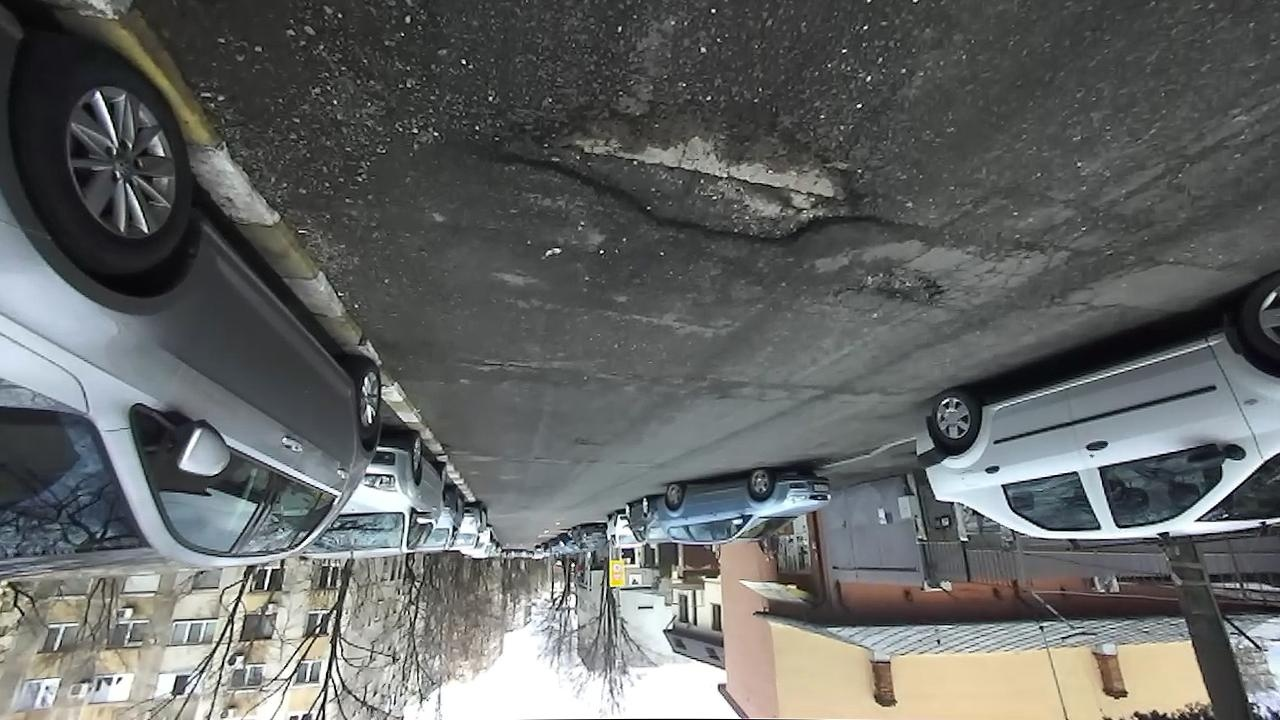pothole: (464, 98, 897, 250), (835, 262, 957, 313), (466, 352, 548, 377)
